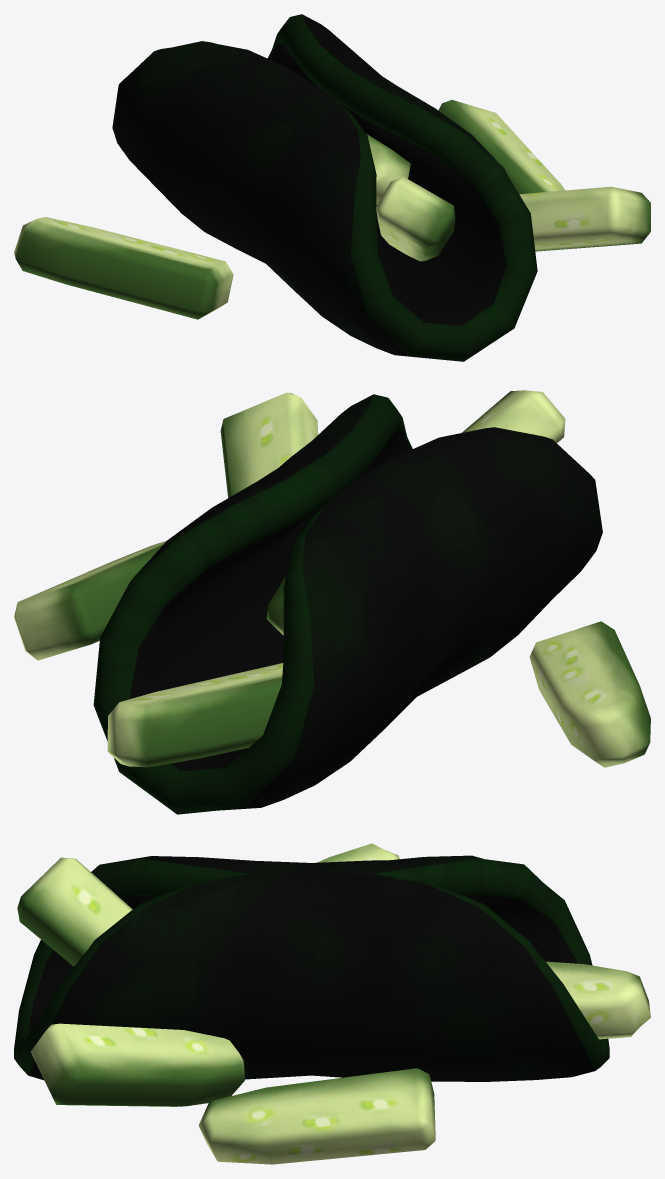
The model's file is m_plated_seaweed_cucumber_01.fbx.
3 renders of one model, top to bottom at view 1: azimuth 30°, elevation 25°; view 2: azimuth 150°, elevation 25°; view 3: azimuth 270°, elevation 25°, orthographic. The views are drawn at different scales.
Parts seen in each view (by area): view 1: m_plated_seaweed_cucumber_01_0, m_plated_seaweed_cucumber_01_1; view 2: m_plated_seaweed_cucumber_01_0, m_plated_seaweed_cucumber_01_1; view 3: m_plated_seaweed_cucumber_01_0, m_plated_seaweed_cucumber_01_1.
Part boxes in pixels (bbox=[...]): m_plated_seaweed_cucumber_01_0: bbox=[112, 14, 537, 361]; m_plated_seaweed_cucumber_01_1: bbox=[14, 100, 650, 319]; m_plated_seaweed_cucumber_01_0: bbox=[93, 394, 602, 814]; m_plated_seaweed_cucumber_01_1: bbox=[14, 390, 650, 767]; m_plated_seaweed_cucumber_01_0: bbox=[14, 855, 609, 1081]; m_plated_seaweed_cucumber_01_1: bbox=[17, 843, 650, 1164].
Bounding box in the file's own units: 0.875 × 0.3443 × 0.9037.
